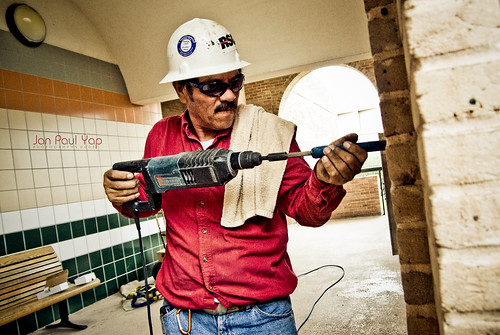person hardhat: (109, 19, 372, 335)
